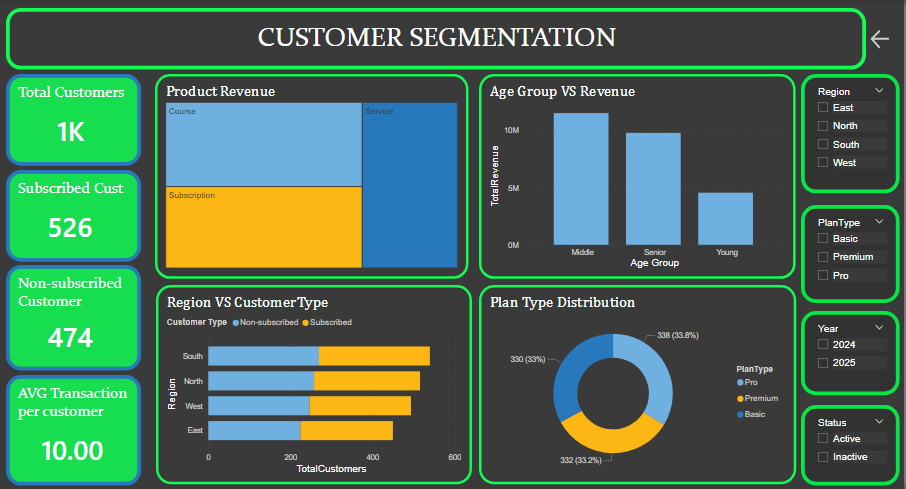

Layout of this report page (visuals, bound fields, positions):
{"tool":"powerbi","page":{"name":"CUST SEG","canvas":[1440,780],"ordinal":2},"visuals":[{"type":"textbox","box":[9.8,13.1,1368.9,98.4],"z":0},{"type":"cardVisual","title":"Total Customers","fields":{"Data":["Customer_Master.TotalCustomers"]},"box":[10.1,117.6,215,146.1],"z":1000},{"type":"cardVisual","title":"Subscribed Cust","fields":{"Data":["Subscription.ActiveCustomers"]},"box":[10.1,270.4,215,146.1],"z":2000},{"type":"cardVisual","title":"Non-subscribed Customer","fields":{"Data":["Subscription.Churned Customers Trend"]},"box":[10.1,421.6,215,168],"z":3000},{"type":"cardVisual","title":"AVG Transaction per customer","fields":{"Data":["Engagement.Avg Transactions per Customer"]},"box":[10.1,596.3,215,176.4],"z":4000},{"type":"treemap","title":"Product Revenue","fields":{"Group":["Transactions.Product"],"Values":["Customer_Master.TotalRevenue"]},"box":[246.9,117.6,498.9,325.9],"z":5000},{"type":"clusteredColumnChart","title":"Age Group VS Revenue","fields":{"Category":["Customer_Master.Age Group"],"Y":["Customer_Master.TotalRevenue"]},"box":[762.6,117.6,503.9,325.9],"z":6000},{"type":"donutChart","title":"Plan Type Distribution","fields":{"Category":["Subscription.PlanType"],"Y":["Customer_Master.TotalCustomers"]},"box":[761.9,454,504.8,317.5],"z":7000},{"type":"barChart","title":"Region VS CustomerType","fields":{"Category":["Customer_Master.Region"],"Y":["Customer_Master.TotalCustomers"],"Series":["Transactions.Customer Type"]},"box":[247.6,454,503.2,317.5],"z":8000},{"type":"slicer","fields":{"Values":["Subscription.Status"]},"box":[1275.4,644.3,157.4,127.9],"z":9000},{"type":"slicer","fields":{"Values":["Customer_Master.Region"]},"box":[1275.4,118,157.4,190.2],"z":10000},{"type":"slicer","fields":{"Values":["Subscription.PlanType"]},"box":[1275.4,326.2,157.4,155.7],"z":11000},{"type":"actionButton","box":[1382,42.6,50.8,39.3],"z":12000},{"type":"slicer","fields":{"Values":["DateTable.Year"]},"box":[1275.4,495.1,157.4,134.4],"z":13000}]}

Visuals, with their boxes in screenshot pixels (x1, y1, x2, y2), scaled from the page's 1440x780 canvas onto the 906x489 screenshot:
textbox: [6,8,867,70]
"Total Customers" cardVisual: [6,74,142,165]
"Subscribed Cust" cardVisual: [6,170,142,261]
"Non-subscribed Customer" cardVisual: [6,264,142,370]
"AVG Transaction per customer" cardVisual: [6,374,142,484]
"Product Revenue" treemap: [155,74,469,278]
"Age Group VS Revenue" clusteredColumnChart: [480,74,797,278]
"Plan Type Distribution" donutChart: [479,285,797,484]
"Region VS CustomerType" barChart: [156,285,472,484]
slicer - Subscription.Status: [802,404,901,484]
slicer - Customer_Master.Region: [802,74,901,193]
slicer - Subscription.PlanType: [802,205,901,302]
actionButton: [870,27,901,51]
slicer - DateTable.Year: [802,310,901,395]
